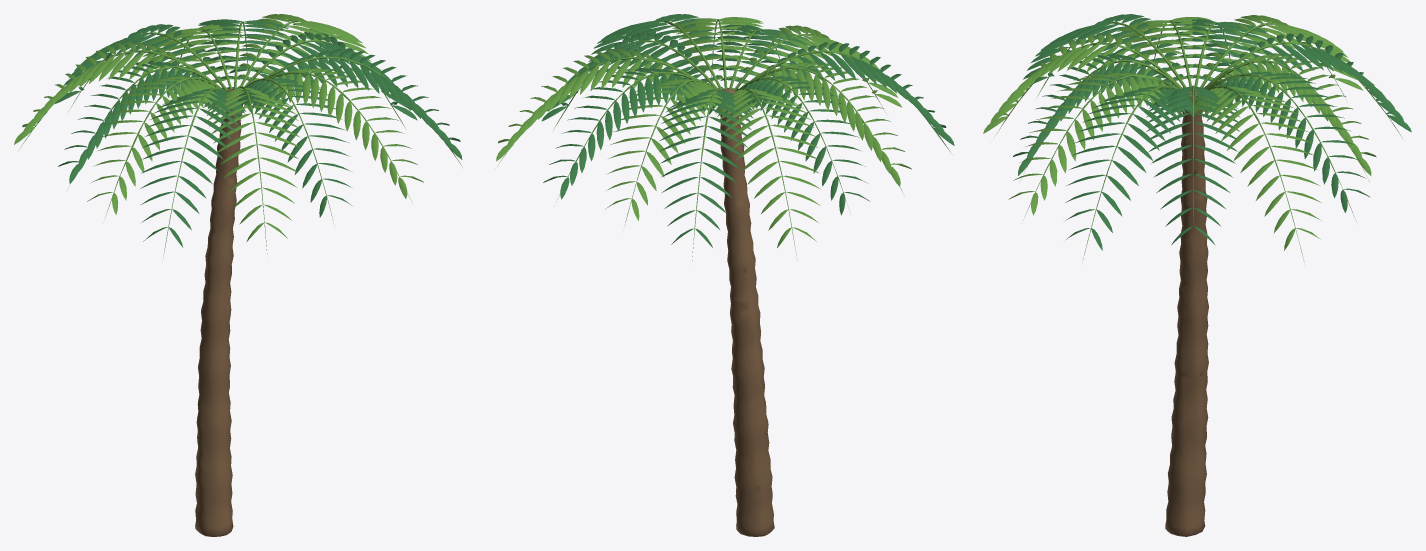
Rendered from Palm_tree_LOD2.glb.
3 views of the same model, side by side, from view 1: azimuth 30°, elevation 25°; view 2: azimuth 150°, elevation 25°; view 3: azimuth 270°, elevation 25° (orthographic). The views are drawn at different scales.
Visible parts, largest first — view 1: Palm_tree_GameMesh; view 2: Palm_tree_GameMesh; view 3: Palm_tree_GameMesh.
Boxes of the visible parts, x1,y1,x2,y2 form: Palm_tree_GameMesh: (14, 14, 462, 536); Palm_tree_GameMesh: (496, 14, 954, 536); Palm_tree_GameMesh: (983, 14, 1411, 536).
Size of the model in its own units: 3.17 by 4.09 by 3.28.
